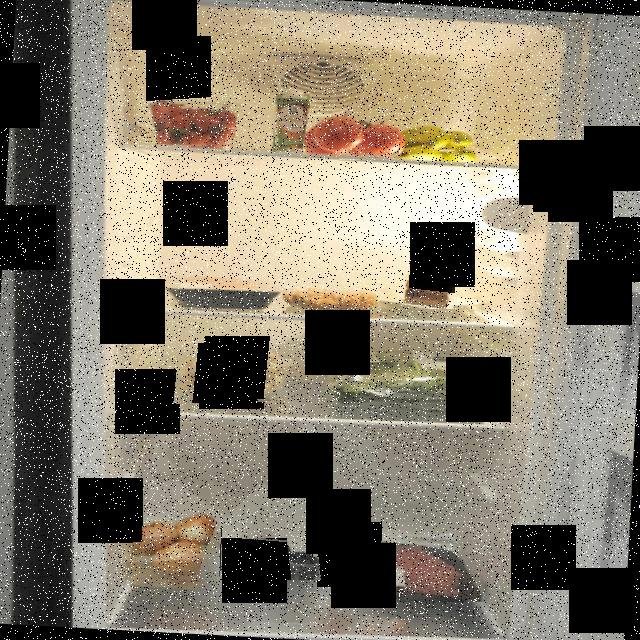banana: (399, 124, 492, 168)
blueberries: (235, 536, 323, 580)
cheese: (399, 266, 456, 309)
ground_beef: (354, 530, 488, 602)
heavy_cream: (270, 88, 310, 156)
mushrooms: (167, 338, 301, 404)
onion: (129, 513, 223, 587)
shrimp: (281, 285, 378, 312)
spinach: (318, 351, 492, 419)
strawberries: (146, 93, 241, 149)
tomato: (303, 109, 412, 162)
